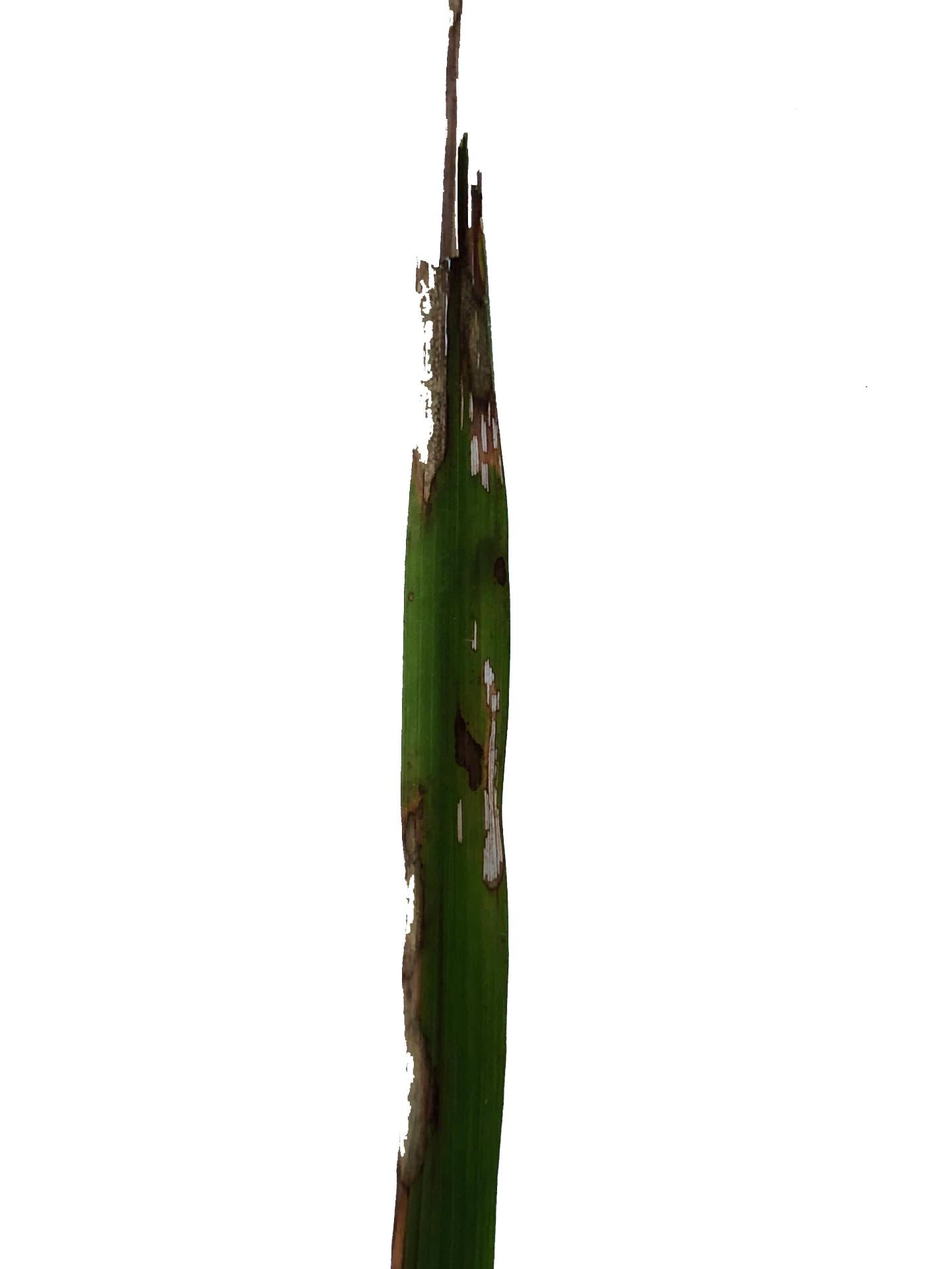Blight: (420, 0, 509, 525), (397, 826, 440, 1269), (436, 671, 506, 889)
